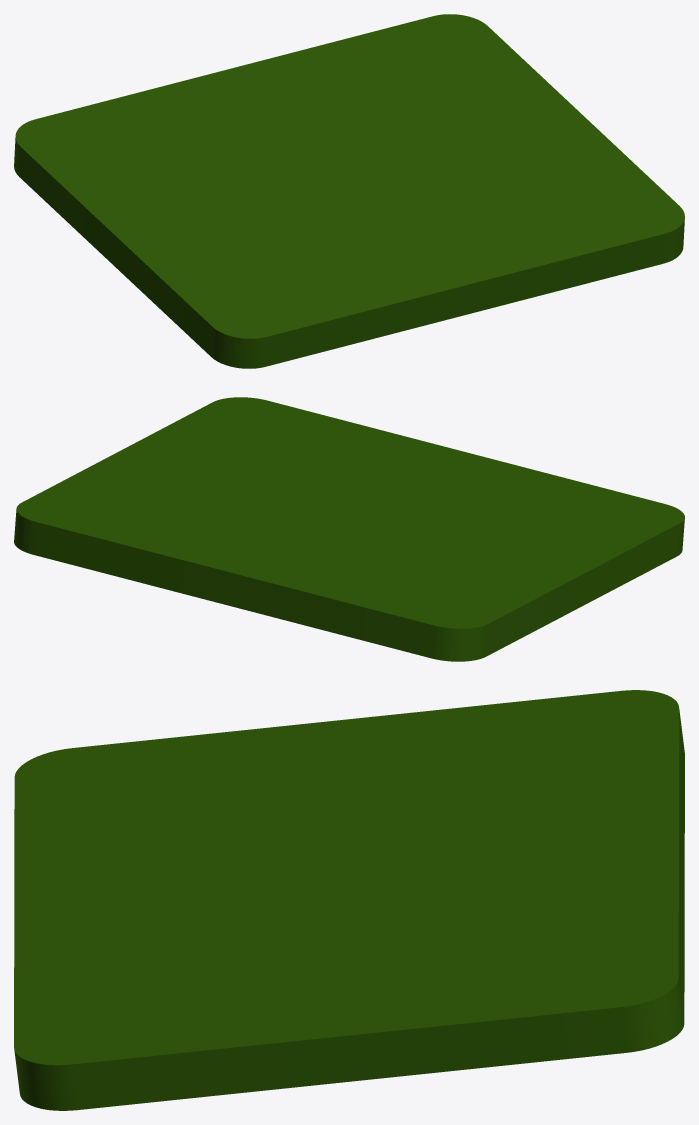
File: original-10.obj
3 views of the same model, one above another, from view 1: azimuth 30°, elevation 25°; view 2: azimuth 150°, elevation 25°; view 3: azimuth 270°, elevation 25° (orthographic). The views are drawn at different scales.
Visible parts, largest first — view 1: mesh16/mesh16-geometry#mesh16-geometry; view 2: mesh16/mesh16-geometry#mesh16-geometry; view 3: mesh16/mesh16-geometry#mesh16-geometry.
Part boxes in pixels (x1,y1,x2,y2): mesh16/mesh16-geometry#mesh16-geometry: (14,14,684,368); mesh16/mesh16-geometry#mesh16-geometry: (14,397,684,661); mesh16/mesh16-geometry#mesh16-geometry: (14,690,684,1110).
Bounding box in the file's own units: 0.1219 × 0.0215 × 0.1056.
